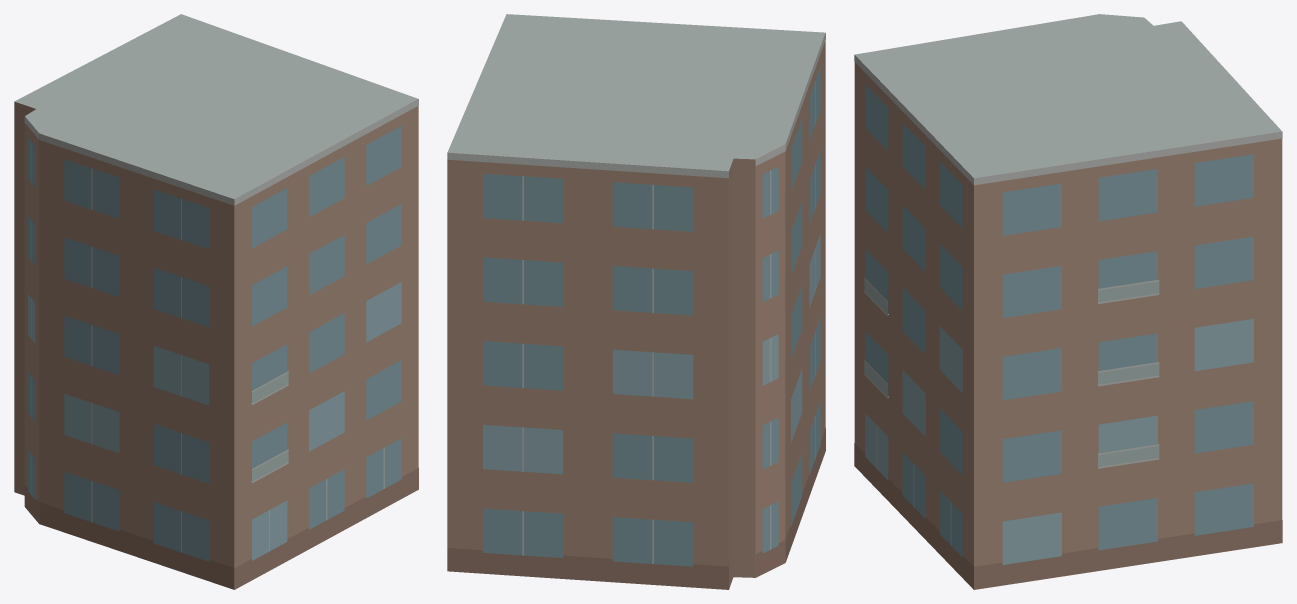
The model's file is survey-upis-32956303.glb.
3 views of the same model, side by side, from view 1: azimuth 30°, elevation 25°; view 2: azimuth 150°, elevation 25°; view 3: azimuth 270°, elevation 25° (orthographic). The views are drawn at different scales.
Visible parts, largest first — view 1: survey-upis-32956303.tmp; view 2: survey-upis-32956303.tmp; view 3: survey-upis-32956303.tmp.
Part boxes in pixels (x1,y1,x2,y2): survey-upis-32956303.tmp: (14, 14, 418, 589); survey-upis-32956303.tmp: (447, 14, 825, 589); survey-upis-32956303.tmp: (854, 14, 1282, 589).
Bounding box in the file's own units: 12.48 × 14.55 × 13.73.
